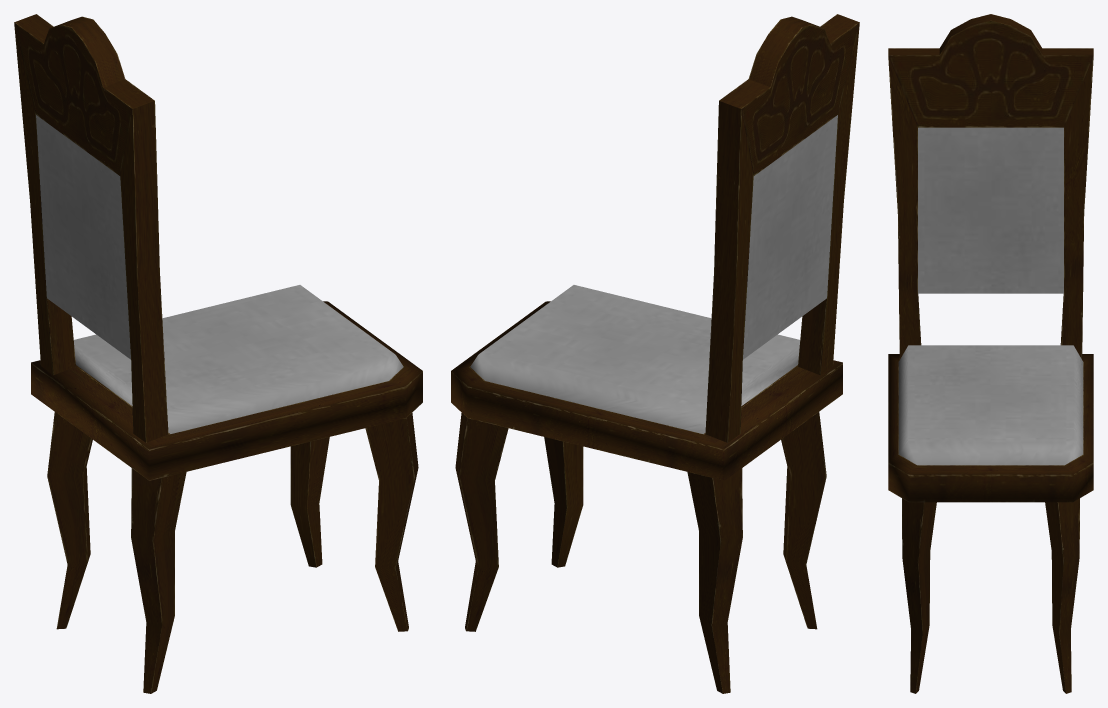
Rendered from hall_Tutorial_chair.glb.
The picture shows the model from 3 angles, left to right: view 1: azimuth 30°, elevation 25°; view 2: azimuth 150°, elevation 25°; view 3: azimuth 270°, elevation 25°; orthographic projection. The views are drawn at different scales.
Visible parts, largest first — view 1: Chair1__wood.012; view 2: Chair1__wood.012; view 3: Chair1__wood.012.
Part boxes in pixels (x1=…): Chair1__wood.012: x1=14, y1=14, x2=422, y2=693; Chair1__wood.012: x1=451, y1=14, x2=859, y2=693; Chair1__wood.012: x1=888, y1=14, x2=1093, y2=693.
Size of the model in its own units: 0.7163 by 1.44 by 0.4818.
2 materials, 2 textured.
